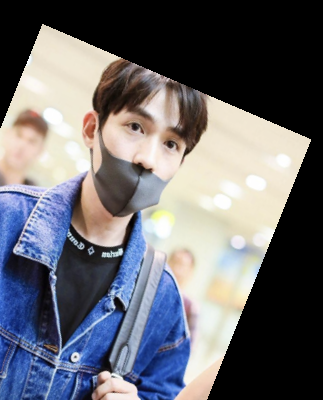mask_weared_incorrect: (67, 51, 220, 231)
